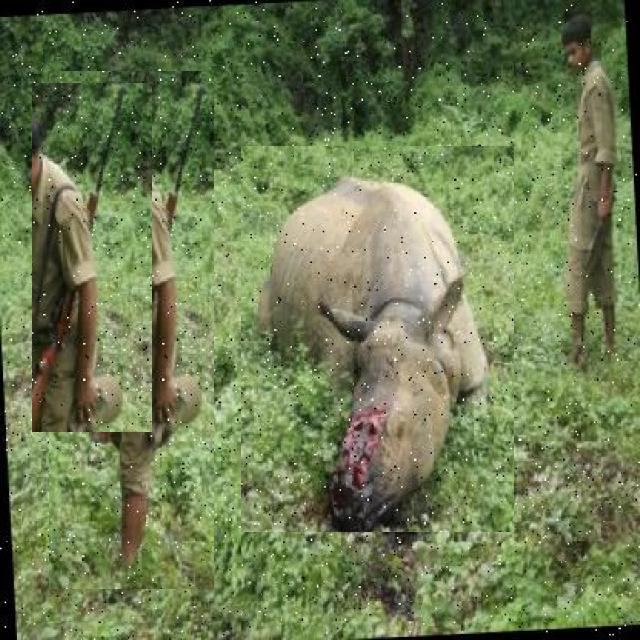p_collect: (241, 146, 514, 532)
poacher: (49, 71, 214, 589), (543, 17, 623, 374)
weapon: (32, 83, 152, 432)
